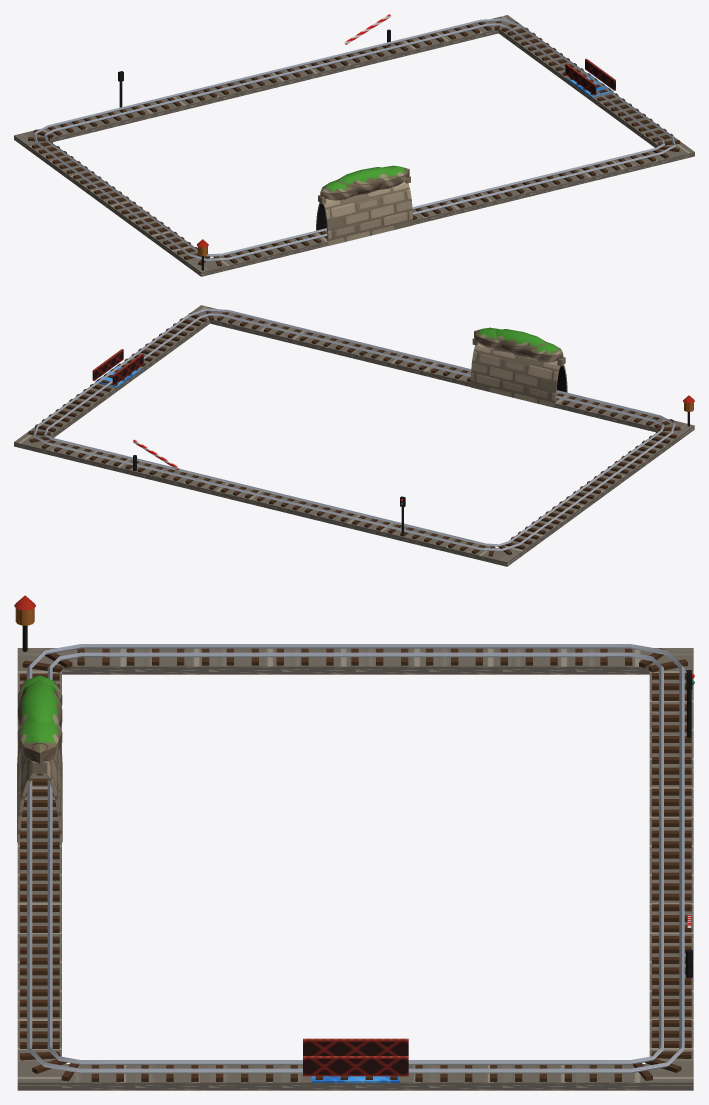
The model's file is Rim_Rails.fbx.
3 renders of one model, top to bottom at view 1: azimuth 30°, elevation 25°; view 2: azimuth 150°, elevation 25°; view 3: azimuth 270°, elevation 25°, orthographic. The views are drawn at different scales.
Parts seen in each view (by area): view 1: Rim_Rails; view 2: Rim_Rails; view 3: Rim_Rails.
Boxes of the visible parts, left/top/right/bottom form: Rim_Rails: left=14, top=14, right=694, bottom=276; Rim_Rails: left=14, top=305, right=694, bottom=566; Rim_Rails: left=14, top=595, right=694, bottom=1090.
Bounding box in the file's own units: 3.51 × 0.41 × 2.32.
Materials: 1 (1 with a texture image).
